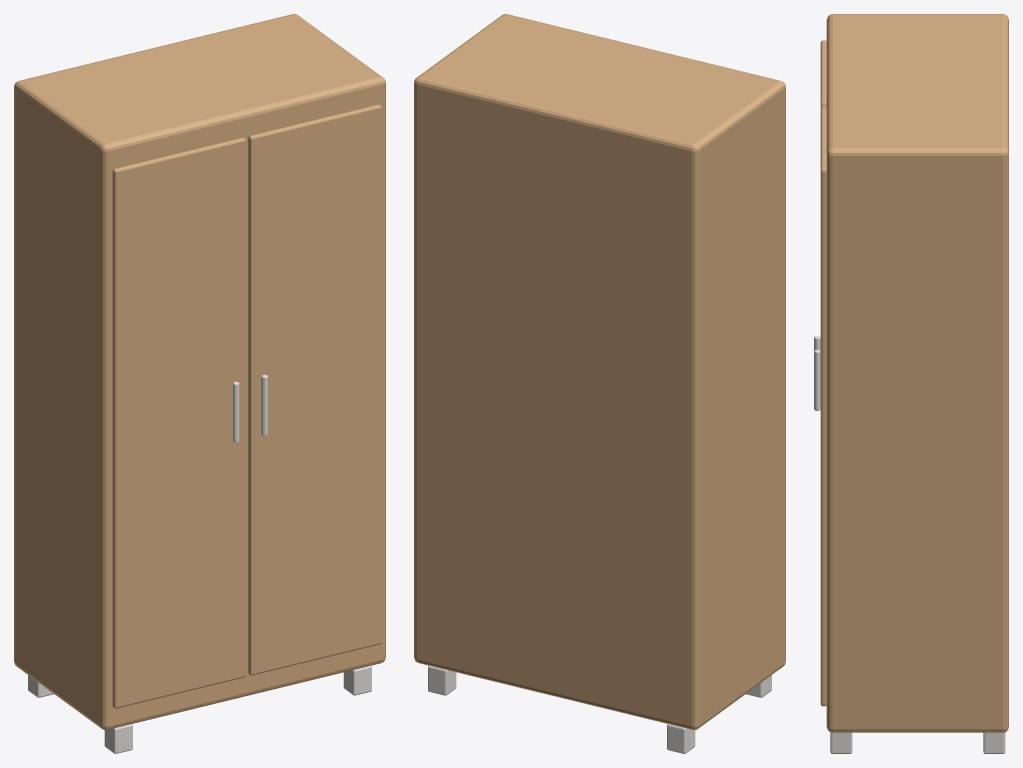
The model's file is modern_office_kitchenette_asset_board_22.glb.
The picture shows the model from 3 angles, left to right: view 1: azimuth 30°, elevation 25°; view 2: azimuth 150°, elevation 25°; view 3: azimuth 270°, elevation 25°; orthographic projection.
Visible parts, largest first — view 1: Cube; view 2: Cube; view 3: Cube.
Boxes of the visible parts, x1,y1,x2,y2 form: Cube: (14,14,385,753); Cube: (414,14,785,753); Cube: (814,14,1008,753).
Size of the model in its own units: 0.9 by 1.85 by 0.535.
